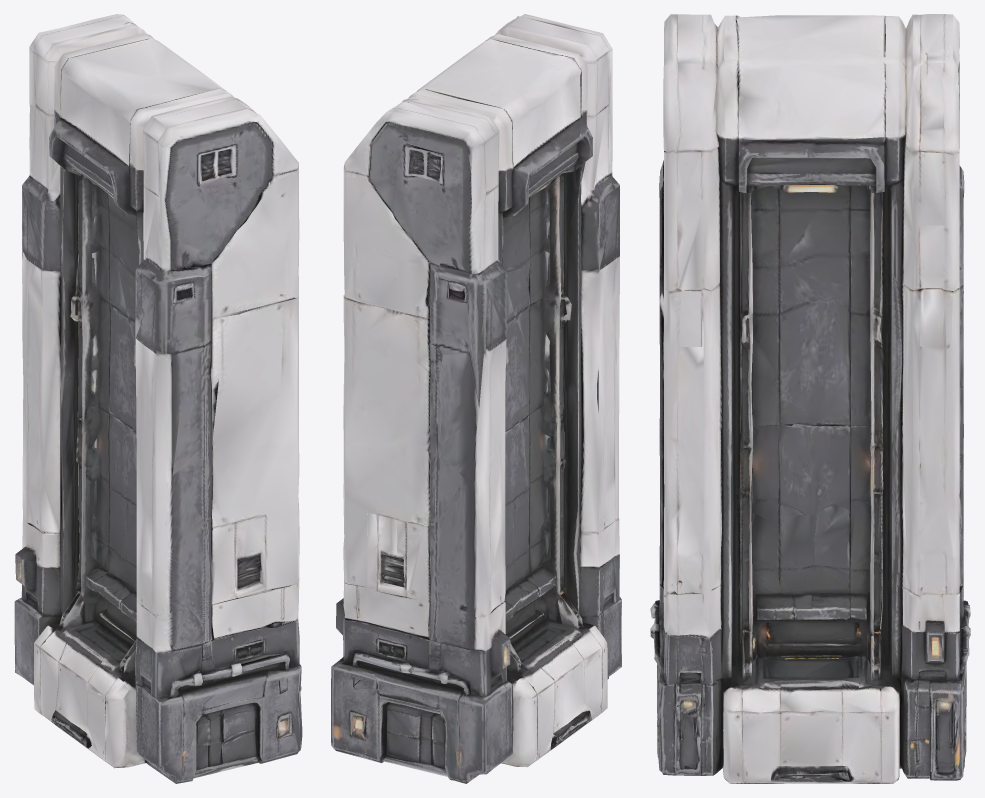
Rendered from vaultBay.glb.
3 renders of one model, left to right at view 1: azimuth 30°, elevation 25°; view 2: azimuth 150°, elevation 25°; view 3: azimuth 270°, elevation 25°, orthographic. The views are drawn at different scales.
Visible parts, largest first — view 1: vaultBay; view 2: vaultBay; view 3: vaultBay.
Boxes of the visible parts, bbox=[...] form: vaultBay: bbox=[14, 14, 302, 783]; vaultBay: bbox=[331, 14, 621, 783]; vaultBay: bbox=[650, 14, 970, 783].
Bounding box in the file's own units: 9 × 30 × 12.5.
1 material, 1 textured.
